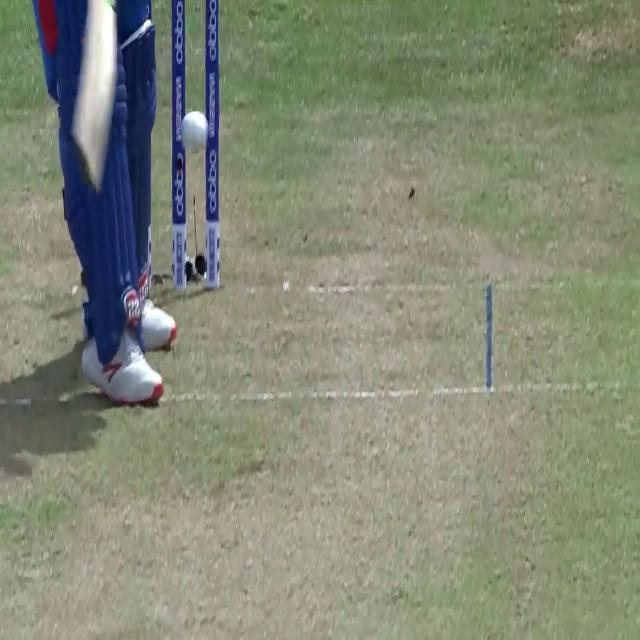ball: (180, 109, 208, 160)
